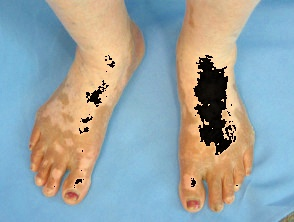vitiligo: (18, 0, 153, 214), (172, 0, 266, 217)
